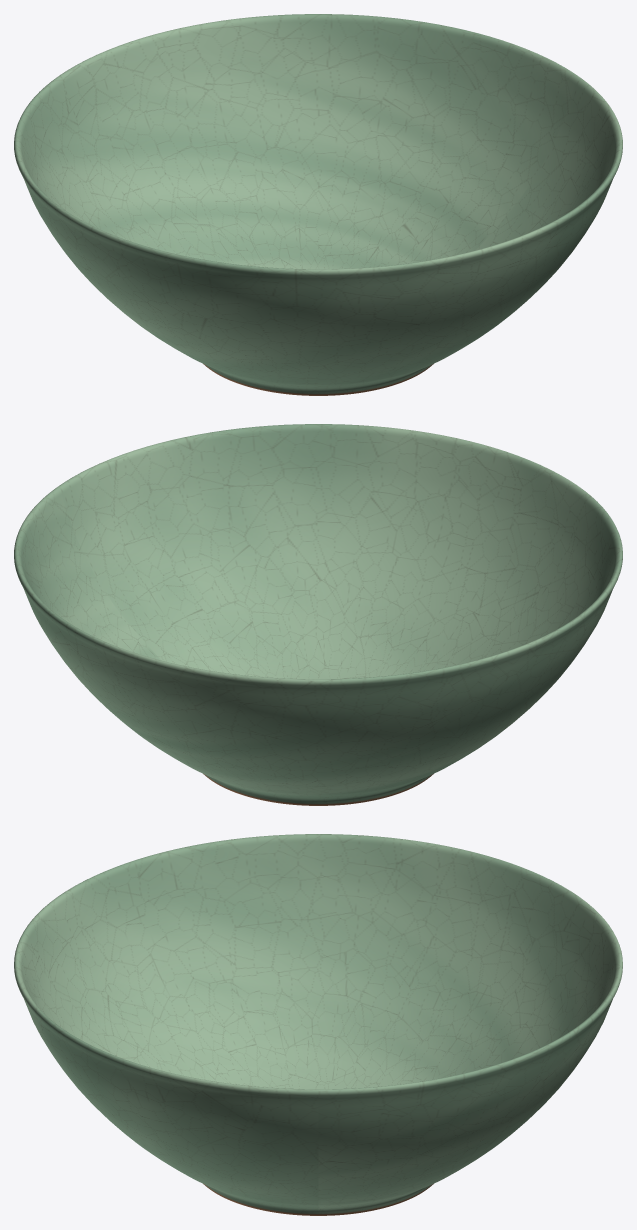
Rendered from celadon-bowl.glb.
3 renders of one model, top to bottom at view 1: azimuth 30°, elevation 25°; view 2: azimuth 150°, elevation 25°; view 3: azimuth 270°, elevation 25°, orthographic.
Visible parts, largest first — view 1: celadon-bowl; view 2: celadon-bowl; view 3: celadon-bowl.
Part boxes in pixels (bbox=[...]): celadon-bowl: bbox=[14, 14, 622, 395]; celadon-bowl: bbox=[14, 424, 622, 805]; celadon-bowl: bbox=[14, 834, 622, 1215].
Size of the model in its own units: 0.2103 by 0.0771 by 0.2103.
1 material, 1 textured.
